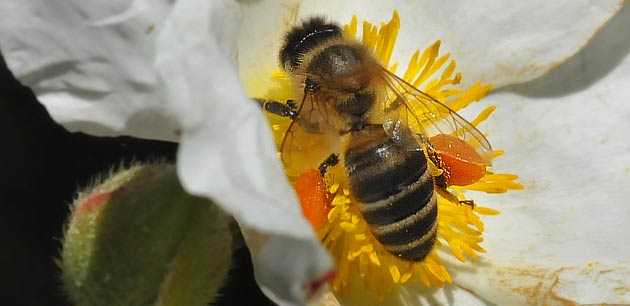bee: (227, 2, 509, 282)
